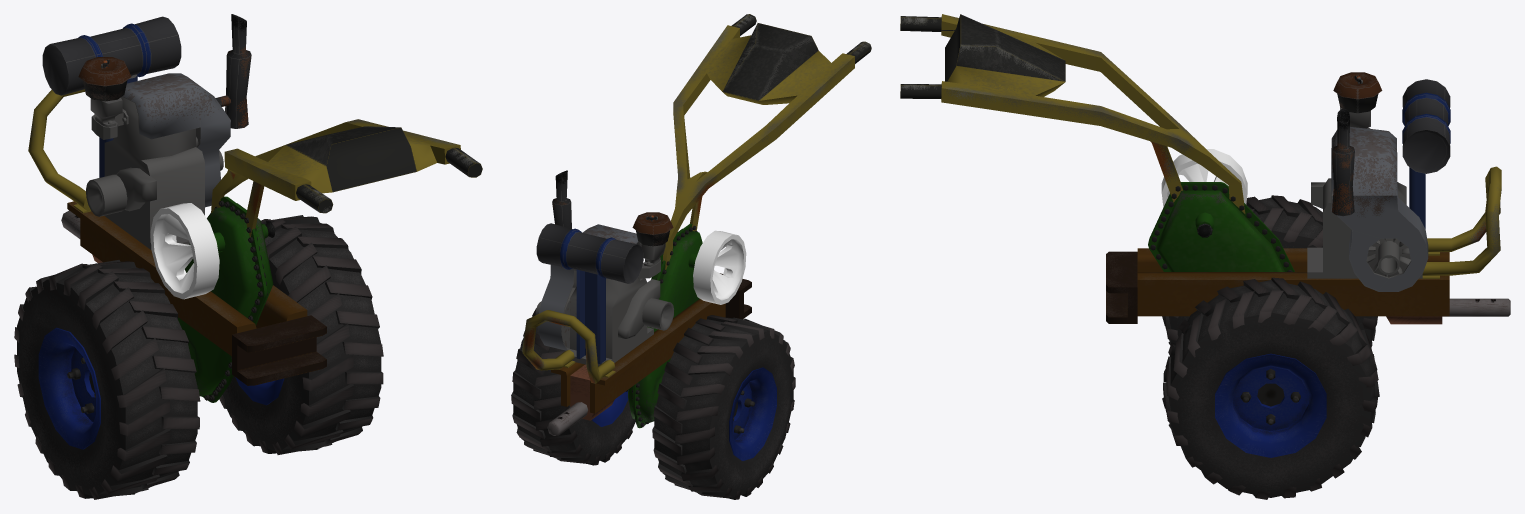
The model's file is Whells 0.fbx.
3 views of the same model, side by side, from view 1: azimuth 30°, elevation 25°; view 2: azimuth 150°, elevation 25°; view 3: azimuth 270°, elevation 25° (orthographic). The views are drawn at different scales.
Visible parts, largest first — view 1: Pokrishka_2, Pokrishka, Rul, Rama, Reductor, Zid_4_5, Vozduhovod, Gas_tank, Disk_2, Shkiv, Vihlop, Kinguru (+7 smaller); view 2: Pokrishka_2, Rul, Pokrishka, Rama, Gas_tank, Reductor, Disk_2, Shkiv, Zid_4_5, Kinguru, Vozduhovod, Kranshtein_Gas (+6 smaller); view 3: Pokrishka, Rul, Rama, Reductor, Vozduhovod, Disk, Gas_tank, Pokrishka_2, Kinguru, Zid_4_5, Vihlop, Bolast_Conekt (+6 smaller).
Boxes of the visible parts, left/top/right/bottom form: Pokrishka_2: left=14, top=260, right=200, bottom=499; Pokrishka: left=219, top=215, right=383, bottom=454; Rul: left=211, top=119, right=482, bottom=237; Rama: left=67, top=201, right=326, bottom=385; Reductor: left=178, top=196, right=275, bottom=402; Zid_4_5: left=104, top=96, right=204, bottom=249; Vozduhovod: left=122, top=73, right=230, bottom=207; Gas_tank: left=42, top=16, right=181, bottom=95; Disk_2: left=38, top=327, right=100, bottom=449; Shkiv: left=150, top=203, right=219, bottom=299; Vihlop: left=225, top=14, right=251, bottom=128; Kinguru: left=28, top=89, right=91, bottom=213; Pokrishka_2: left=652, top=315, right=795, bottom=499; Rul: left=662, top=14, right=871, bottom=269; Pokrishka: left=511, top=308, right=635, bottom=465; Rama: left=551, top=273, right=751, bottom=413; Gas_tank: left=536, top=223, right=643, bottom=283; Reductor: left=628, top=223, right=702, bottom=428; Disk_2: left=729, top=367, right=776, bottom=460; Shkiv: left=693, top=230, right=746, bottom=304; Zid_4_5: left=569, top=278, right=653, bottom=366; Kinguru: left=522, top=310, right=615, bottom=383; Vozduhovod: left=538, top=224, right=640, bottom=350; Kranshtein_Gas: left=576, top=269, right=605, bottom=364; Pokrishka: left=1162, top=277, right=1379, bottom=499; Rul: left=900, top=14, right=1245, bottom=213; Rama: left=1106, top=248, right=1449, bottom=323; Reductor: left=1148, top=182, right=1294, bottom=271; Vozduhovod: left=1331, top=126, right=1428, bottom=291; Disk: left=1215, top=353, right=1326, bottom=457; Gas_tank: left=1402, top=79, right=1450, bottom=173; Pokrishka_2: left=1162, top=195, right=1377, bottom=347; Kinguru: left=1422, top=166, right=1501, bottom=278; Zid_4_5: left=1307, top=178, right=1422, bottom=278; Vihlop: left=1332, top=109, right=1354, bottom=216; Bolast_Conekt: left=1386, top=298, right=1510, bottom=324.
Size of the model in its own units: 69.62 by 113 by 150.
